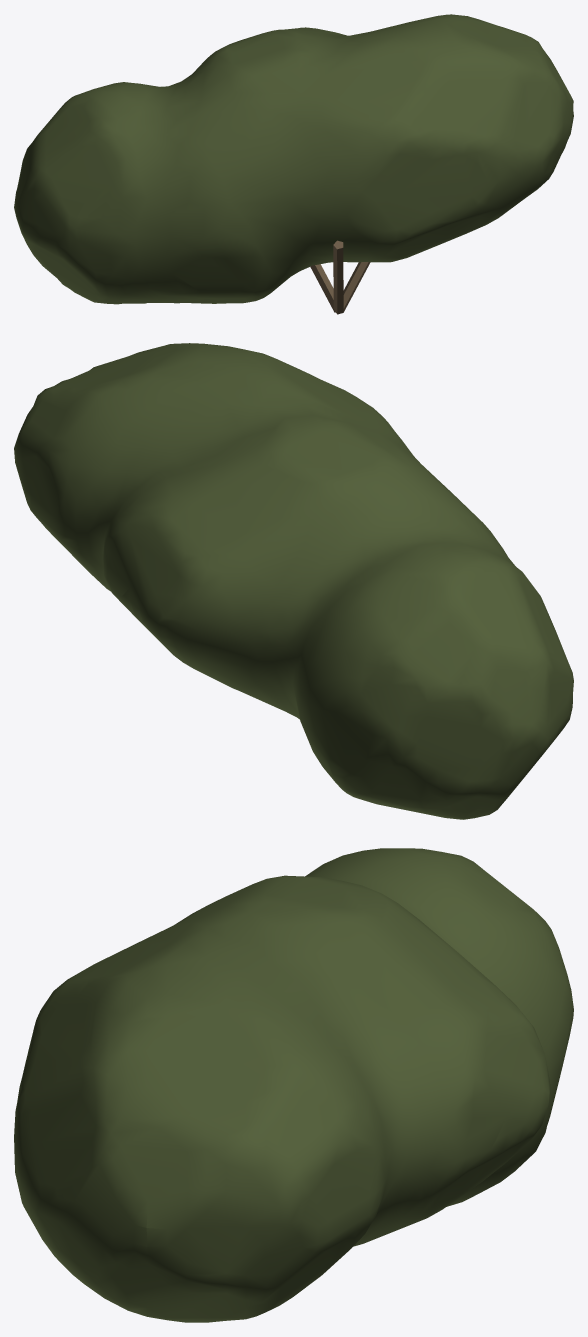
Rendered from chaparral.glb.
3 renders of one model, top to bottom at view 1: azimuth 30°, elevation 25°; view 2: azimuth 150°, elevation 25°; view 3: azimuth 270°, elevation 25°, orthographic. The views are drawn at different scales.
Visible parts, largest first — view 1: crown, stem1, stem0, stem2; view 2: crown; view 3: crown.
Part boxes in pixels (bbox=[...]): crown: bbox=[14, 14, 573, 304]; stem1: bbox=[333, 240, 343, 314]; stem0: bbox=[343, 262, 370, 311]; stem2: bbox=[310, 264, 335, 312]; crown: bbox=[14, 343, 573, 819]; crown: bbox=[14, 848, 573, 1322].
Bounding box in the file's own units: 2.94 × 1.46 × 1.87.
